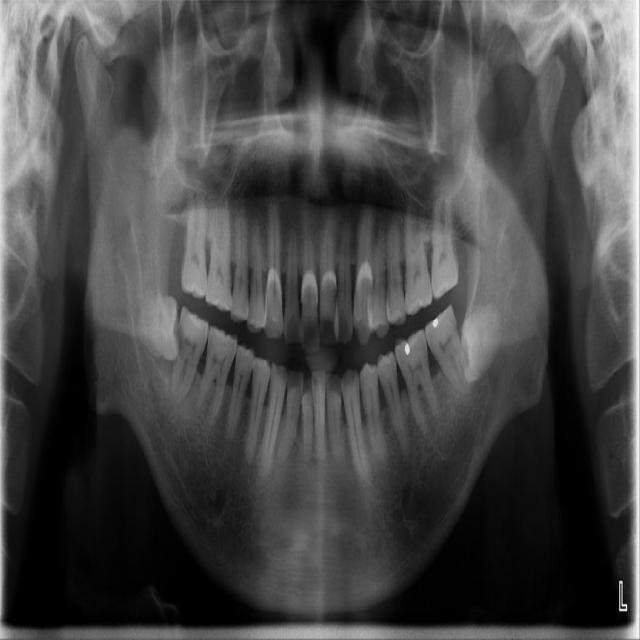52: (415, 303, 473, 360), (348, 259, 380, 346), (299, 270, 319, 354), (393, 329, 429, 374), (318, 270, 339, 346), (266, 268, 284, 340), (176, 322, 186, 353), (337, 283, 340, 306), (334, 288, 337, 302)
BioHorizons Implant: (431, 192, 462, 301)
Biomet 3i Implant: (455, 301, 506, 387)
Blue Sky Bio Implant: (418, 304, 477, 398)
Caries: (180, 192, 208, 300)
Implant: (165, 306, 213, 408)
Keystone Dental Implant: (137, 295, 181, 361)
